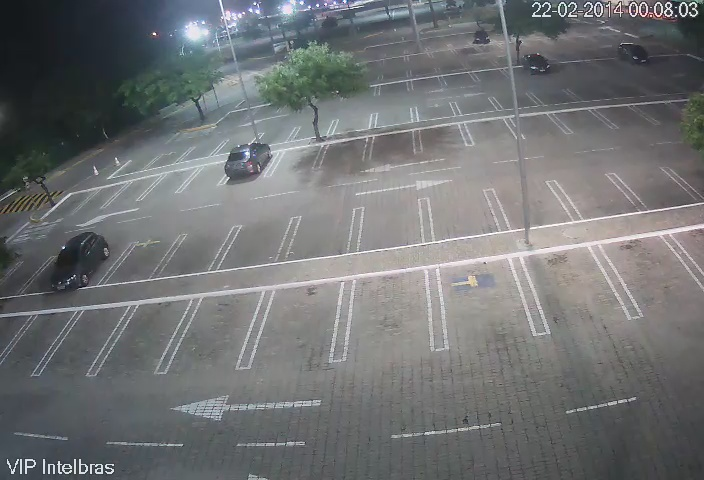car: (56, 237, 101, 287), (227, 145, 270, 185), (620, 45, 653, 69), (527, 52, 550, 78)
lot: (339, 266, 441, 363), (427, 255, 532, 349), (600, 234, 704, 325), (524, 244, 628, 334), (261, 281, 345, 373), (182, 287, 259, 381), (117, 297, 181, 375), (620, 165, 701, 216), (421, 196, 497, 243), (65, 304, 116, 374), (286, 205, 352, 259), (559, 173, 632, 219), (355, 201, 425, 247), (490, 189, 570, 227), (20, 311, 65, 378), (231, 216, 279, 275), (173, 223, 215, 276), (122, 231, 163, 285), (594, 107, 659, 135), (464, 117, 516, 150), (553, 106, 608, 137), (510, 115, 566, 143), (323, 138, 364, 176), (365, 137, 419, 165), (418, 127, 467, 156), (276, 147, 316, 180), (187, 162, 225, 194), (11, 258, 40, 298), (530, 83, 574, 107), (114, 180, 149, 210), (157, 170, 185, 206), (331, 111, 374, 134), (84, 187, 112, 219), (493, 90, 540, 107), (256, 129, 298, 147), (220, 131, 256, 151), (375, 109, 420, 124), (454, 100, 499, 114), (295, 124, 336, 139), (154, 152, 188, 168), (415, 105, 458, 117), (62, 193, 82, 218), (190, 138, 215, 158), (122, 161, 149, 176)
